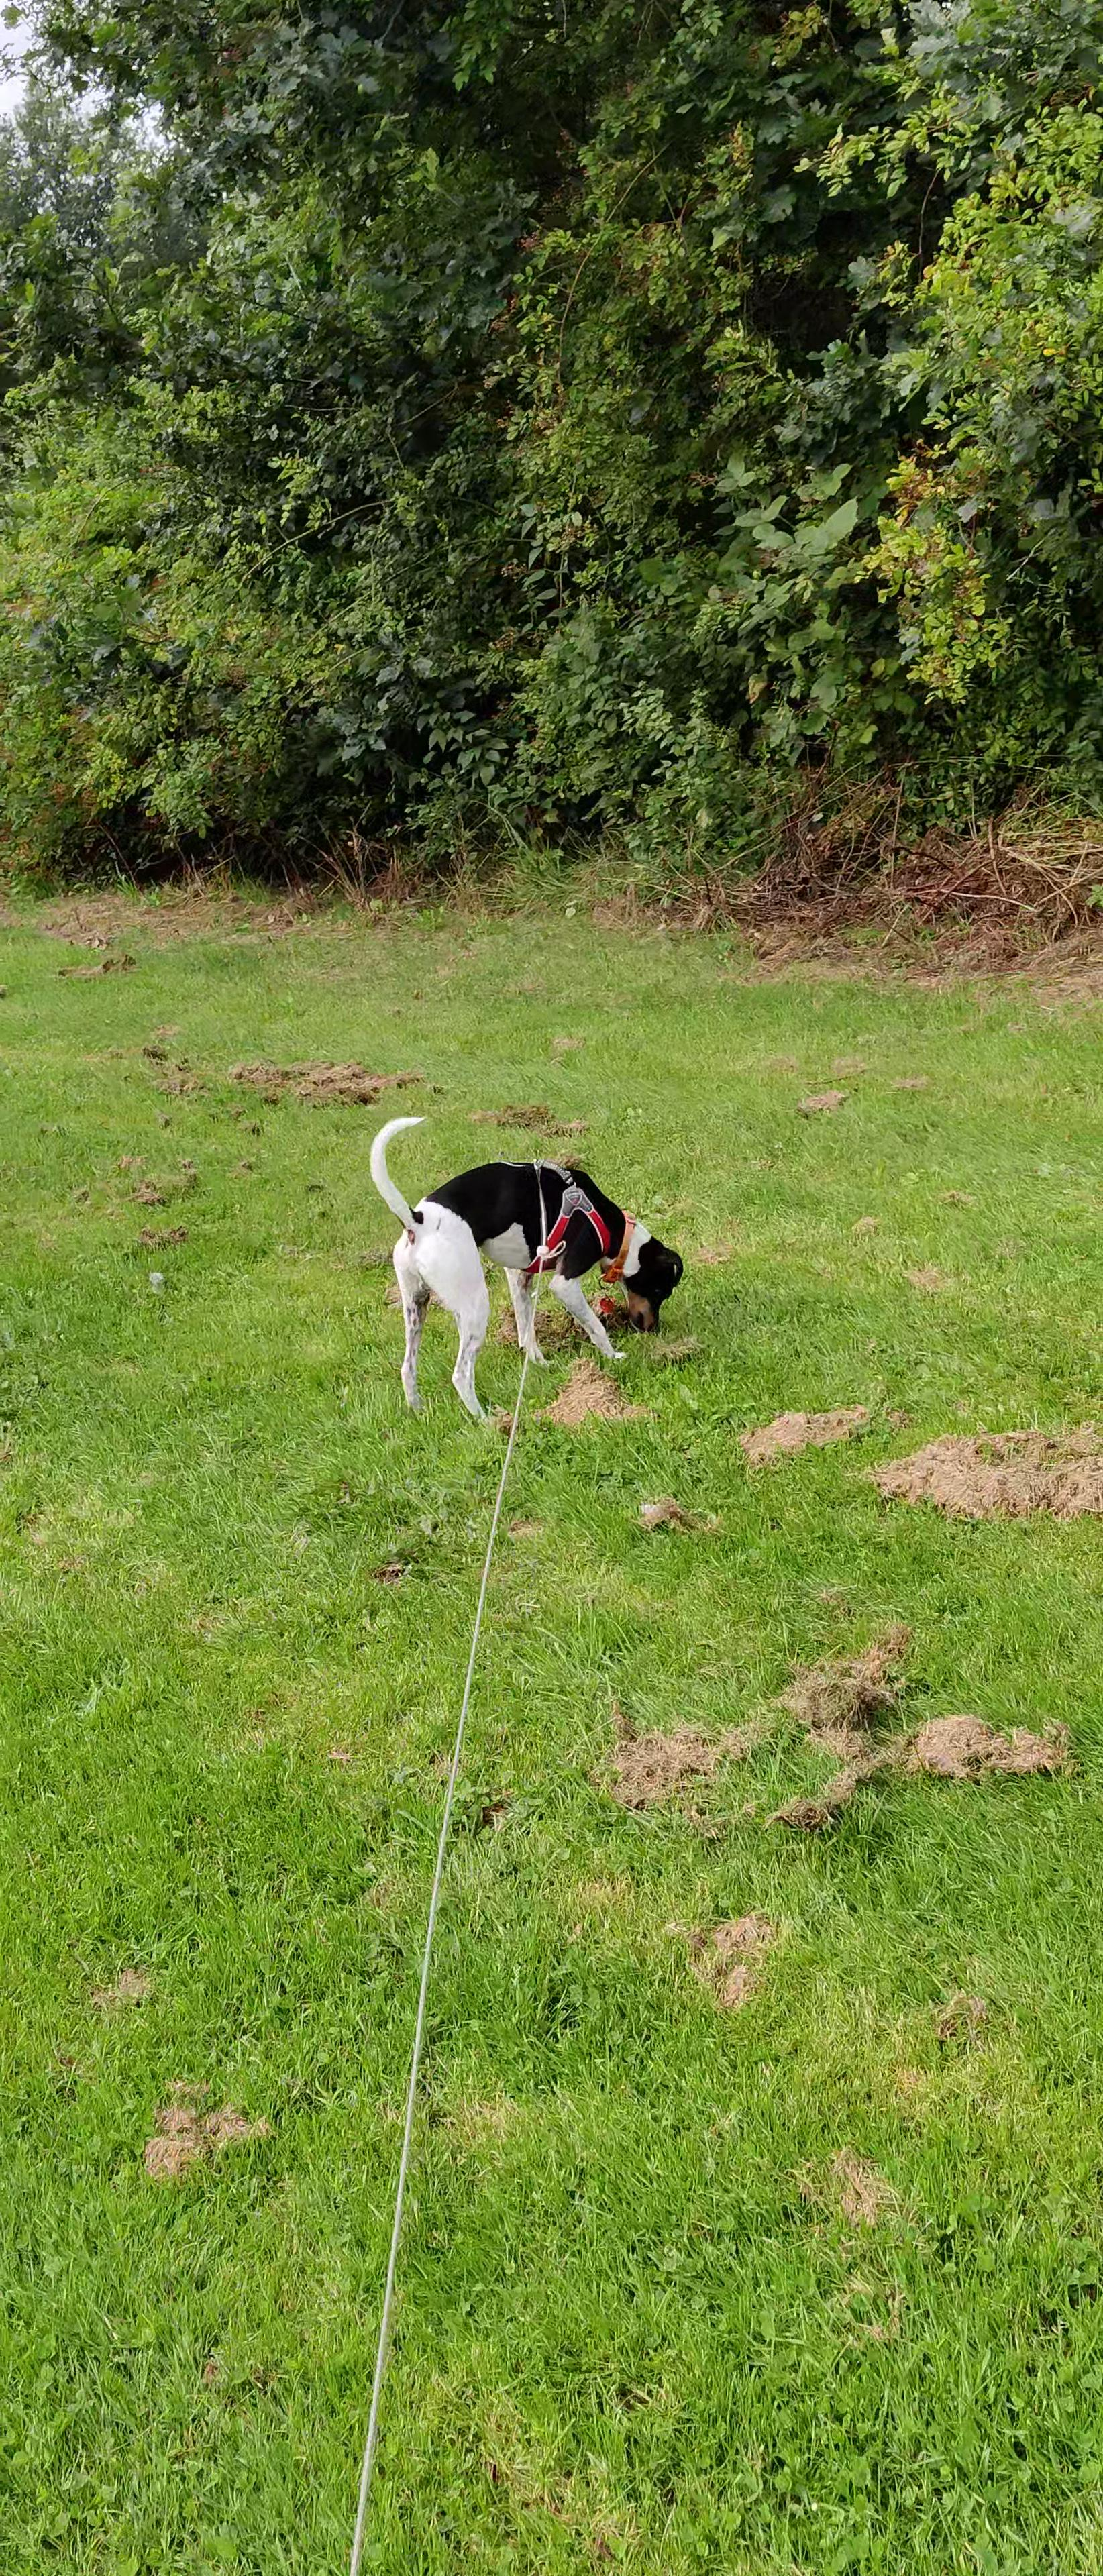Dog: (362, 1109, 687, 1424)
